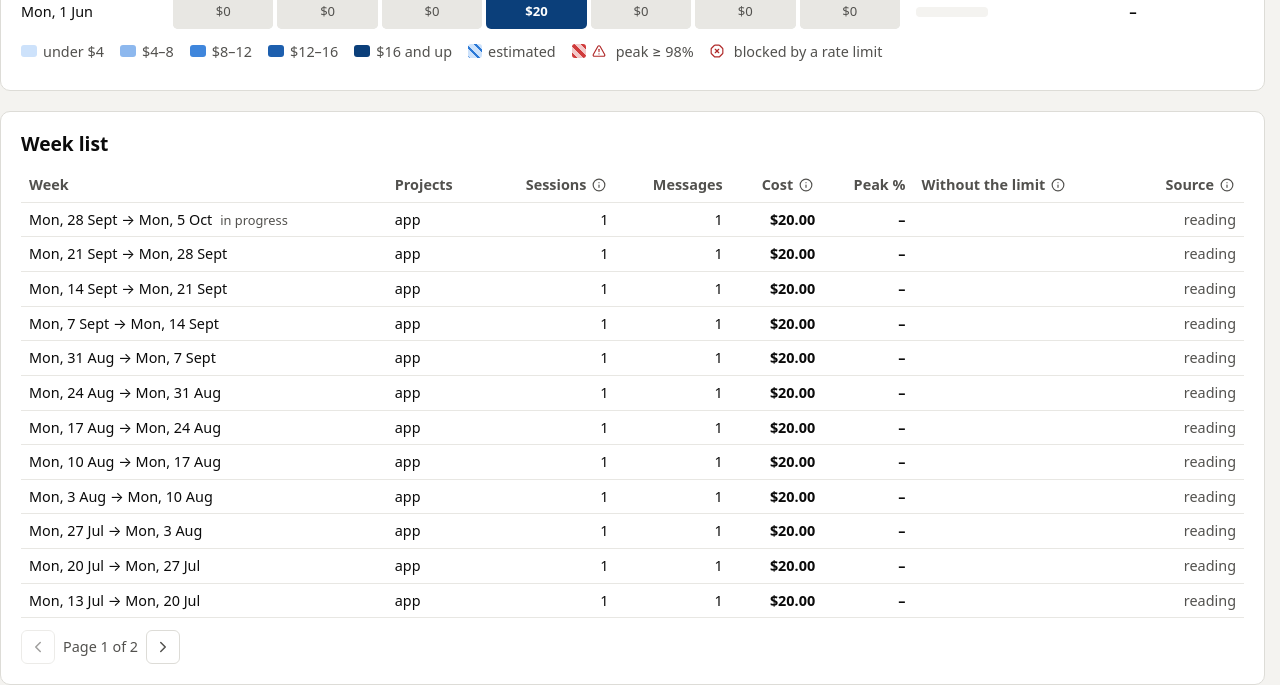
Test: weeks tab over a range › pages the week list by 12
(page scrolled)
Check: the navigation bar named "Week list pages" reads "Page 1 of 2", box [63,637,138,656]
Click the button named "Next page". click: [163, 647]
box: [146,630,180,664]
(page scrolled)
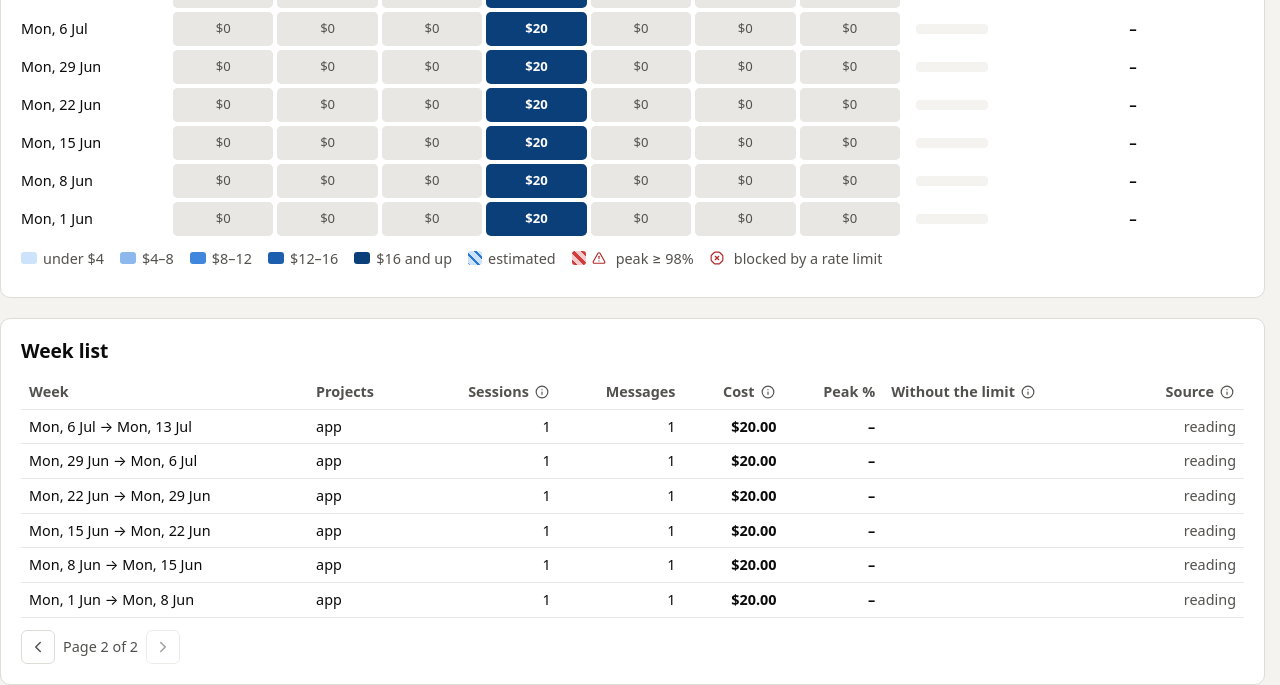
Check: the number of rows is 7
Check: the navigation bar named "Week list pages" reads "Page 2 of 2", box [63,637,138,656]
